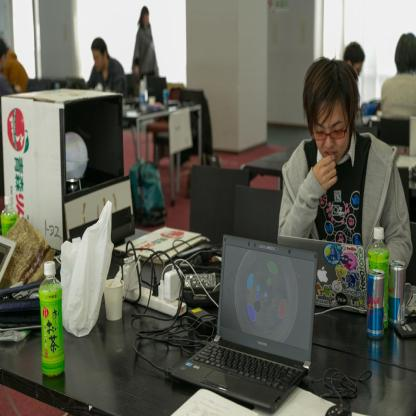board: (171, 233, 318, 413), (278, 235, 368, 313), (40, 260, 66, 374), (370, 226, 388, 327), (368, 270, 386, 340), (390, 261, 406, 329), (103, 278, 124, 322), (0, 236, 17, 284), (2, 197, 16, 235), (140, 80, 147, 112)
